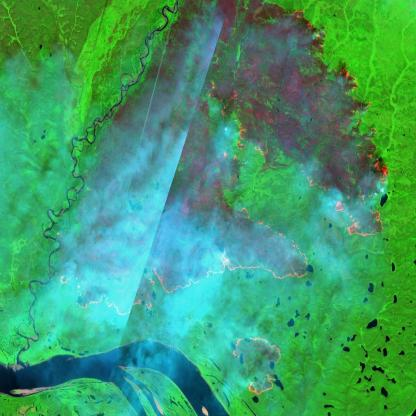fire: (56, 0, 396, 403)
